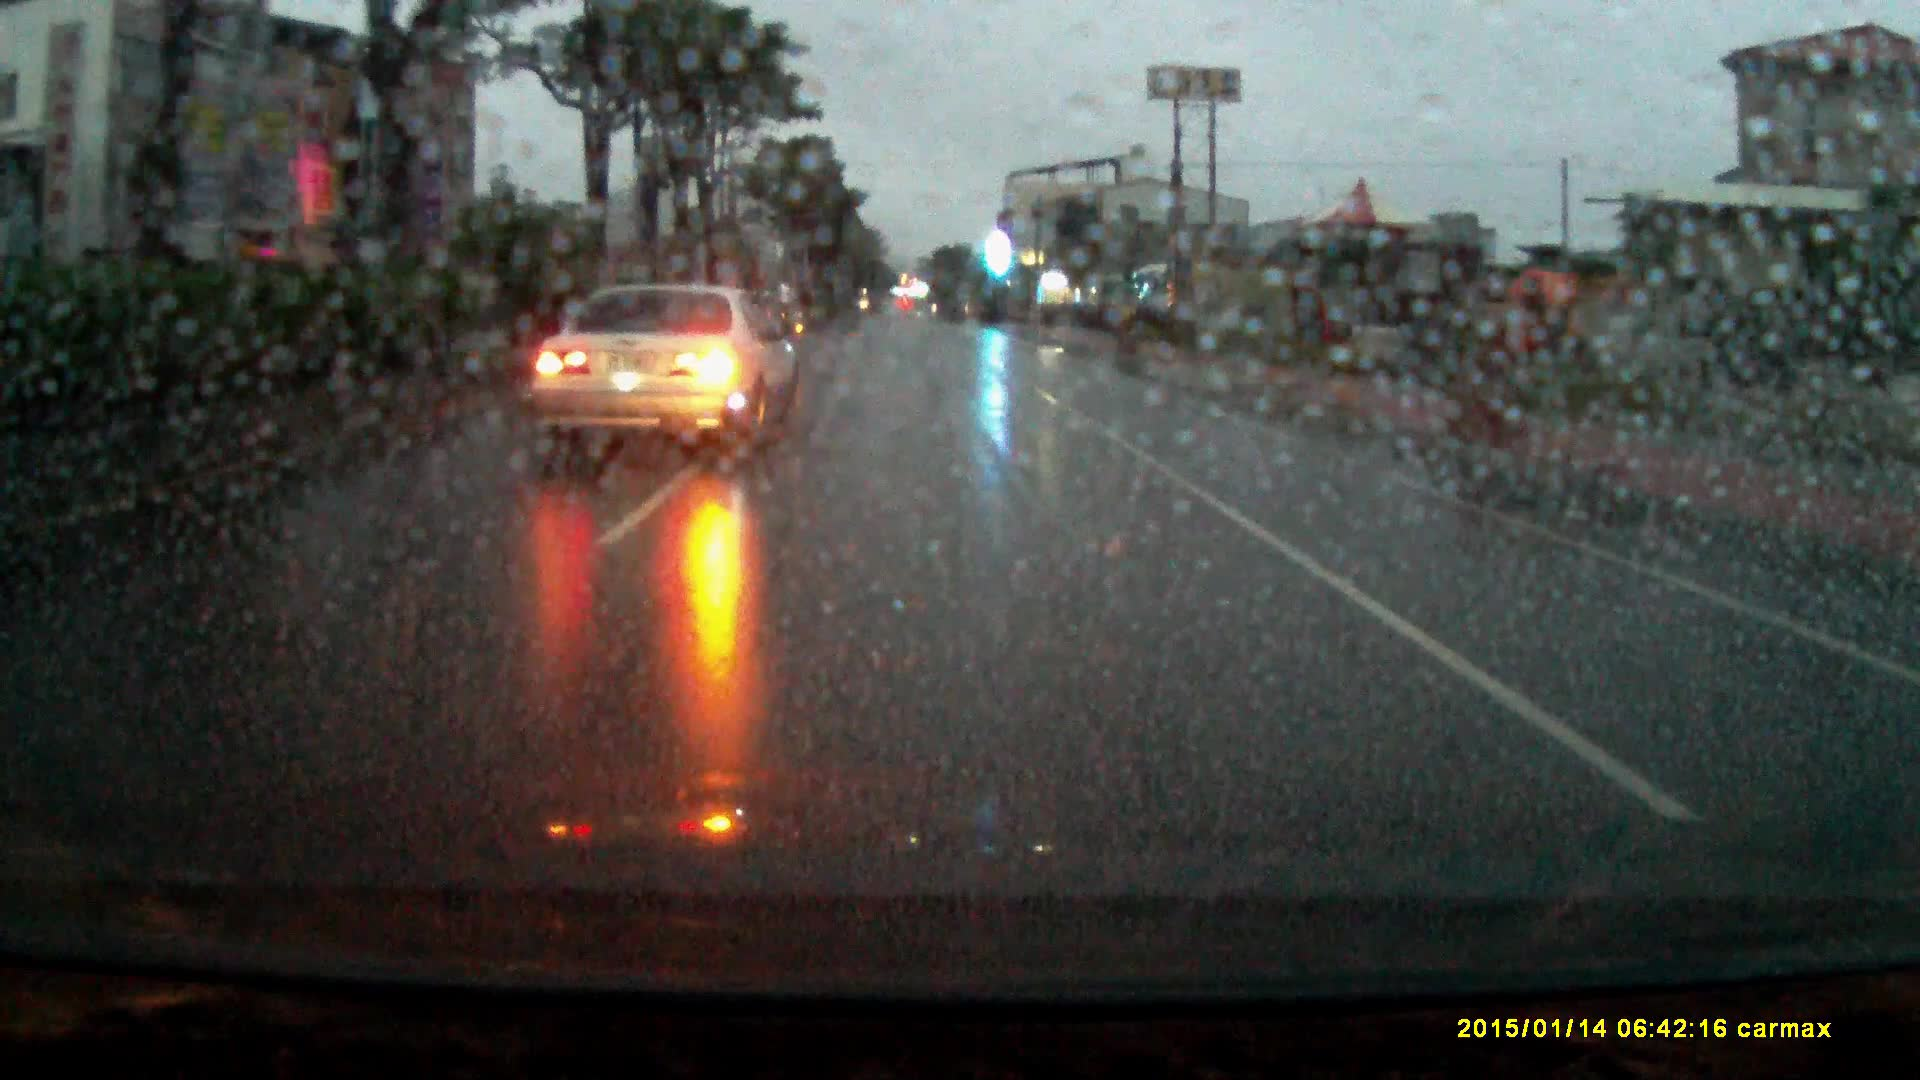pedestrian: (1496, 269, 1589, 465)
vehicle: (525, 286, 804, 469)
